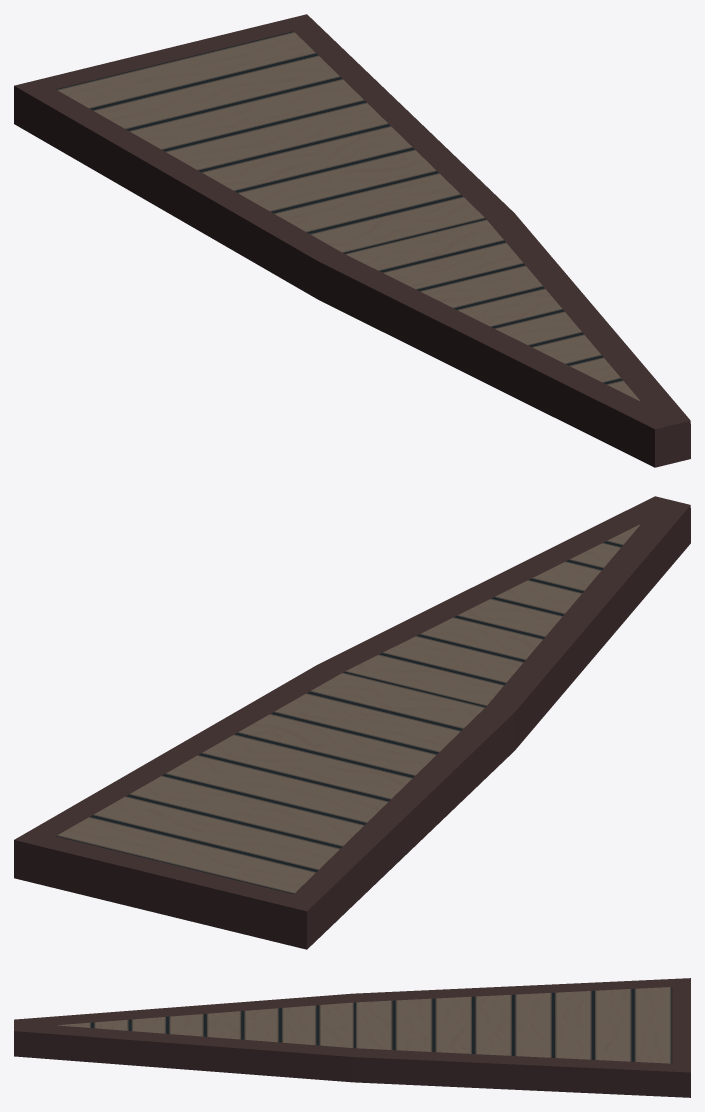
The model's file is SW_ENV_EL_TrackBase_Walkway_Cross_Central.fbx.
3 views of the same model, one above another, from view 1: azimuth 30°, elevation 25°; view 2: azimuth 150°, elevation 25°; view 3: azimuth 270°, elevation 25° (orthographic). The views are drawn at different scales.
Visible parts, largest first — view 1: SW_ENV_EL_TrackBase_Walkway_Cross_Central; view 2: SW_ENV_EL_TrackBase_Walkway_Cross_Central; view 3: SW_ENV_EL_TrackBase_Walkway_Cross_Central.
Part boxes in pixels (x1,y1,x2,y2): SW_ENV_EL_TrackBase_Walkway_Cross_Central: (14, 14, 690, 467); SW_ENV_EL_TrackBase_Walkway_Cross_Central: (14, 496, 690, 949); SW_ENV_EL_TrackBase_Walkway_Cross_Central: (14, 978, 690, 1097).
Size of the model in its own units: 160 by 20 by 485.
